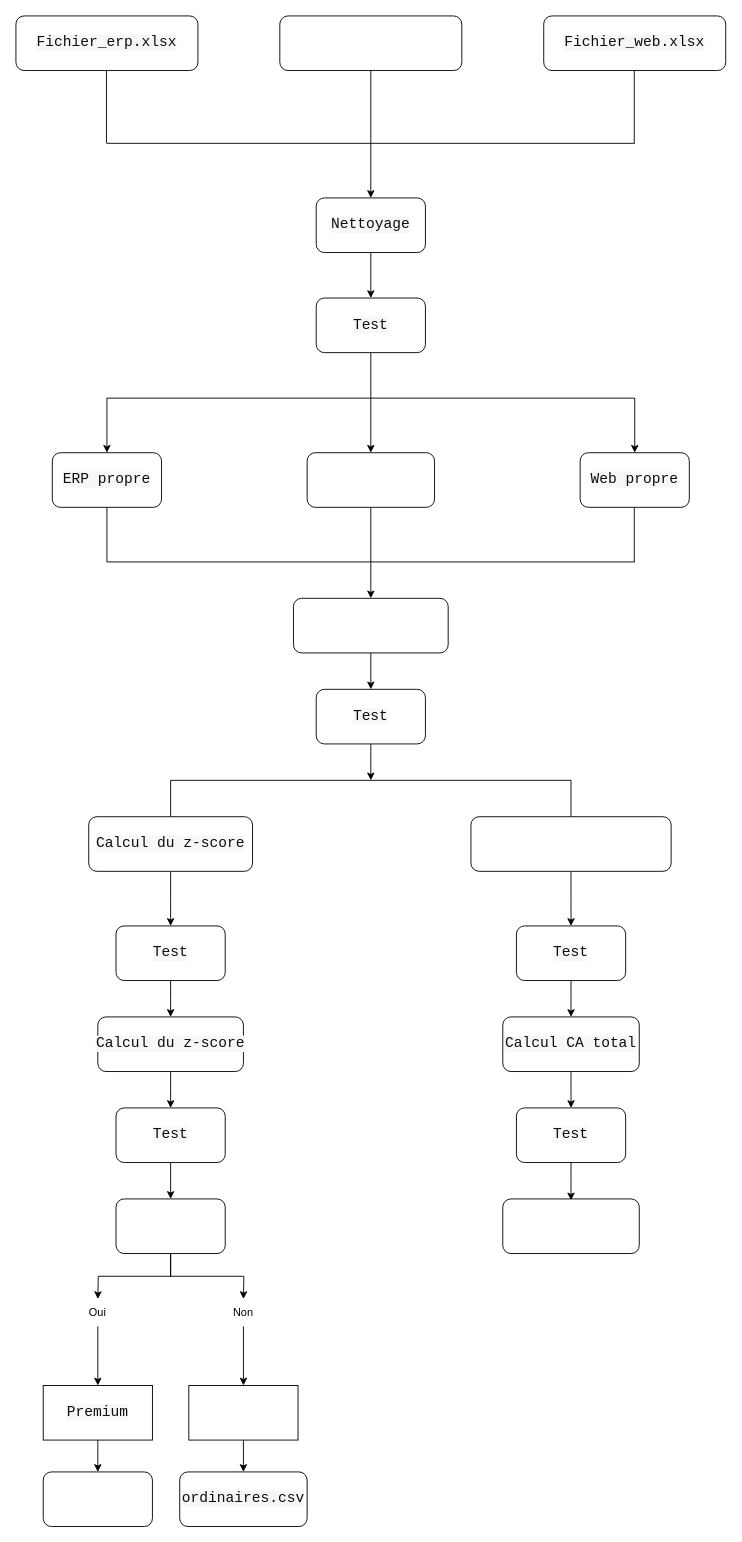
This 742x1542 diagram has some shape labels left out. Here are the shapes that lost their labels. From the top down, the box of each, then its label:
(279, 15, 462, 71): fichier_liaison.xlsx
(306, 452, 435, 507): Liaison propre
(293, 597, 448, 653): Jointure ERP + Web
(470, 816, 671, 871): Calcul CA par produit
(115, 1198, 225, 1254): z > 2 ?
(502, 1198, 639, 1254): Rapport CA.xlsx
(188, 1385, 298, 1440): Ordinaire
(42, 1471, 152, 1527): premium.csv
